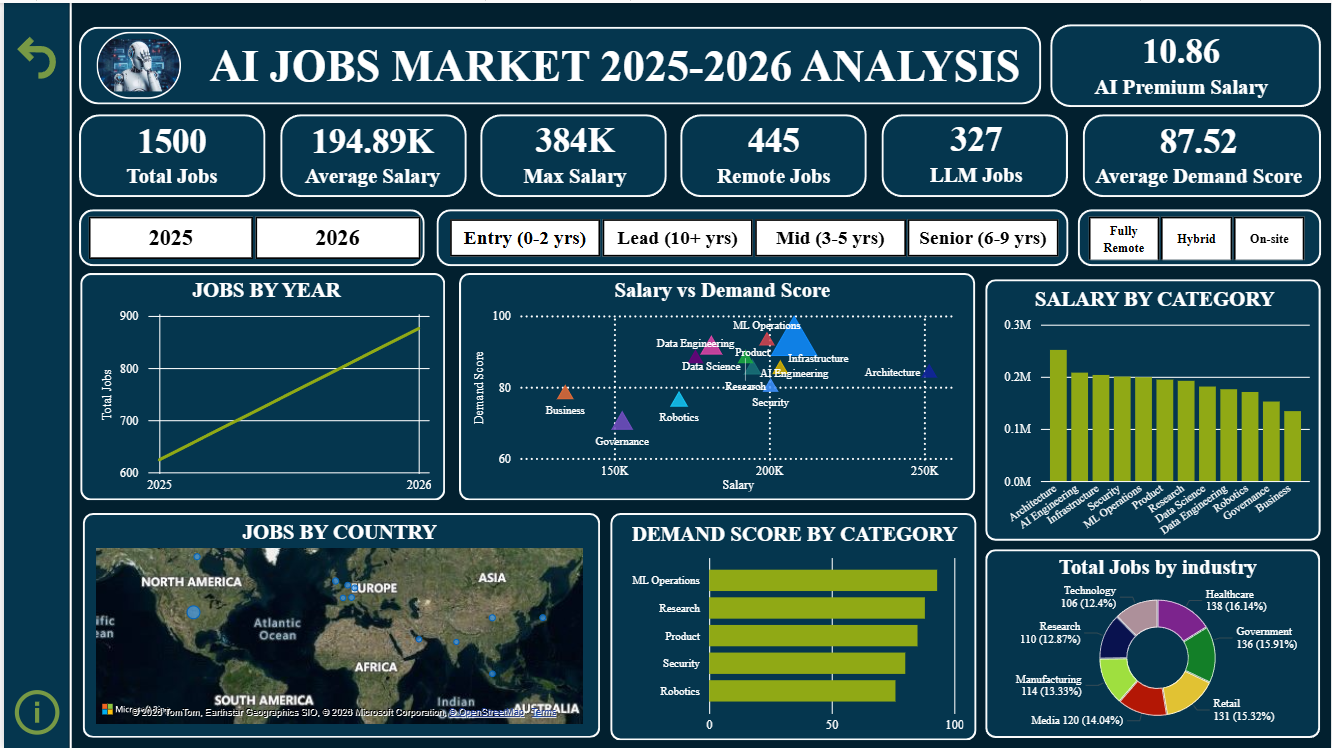

What the dashboard file says about the page in this screenshot:
{"tool":"powerbi","page":{"name":"Page 1","canvas":[1280,720],"ordinal":0},"visuals":[{"type":"shape","box":[72.5,22.5,928.8,75],"z":0},{"type":"textbox","box":[151.2,31.2,867.5,61.2],"z":1000},{"type":"shape","box":[0,0,62.5,720],"z":2000},{"type":"shape","box":[0,0,128.8,720],"z":3000},{"type":"image","box":[88.8,27.5,81.2,65],"z":4000},{"type":"shape","box":[460,107.5,180,80],"z":5000},{"type":"shape","box":[652.5,107.5,180,80],"z":6000},{"type":"shape","box":[266.2,107.5,180,80],"z":7000},{"type":"shape","box":[72.5,107.5,180,80],"z":8000},{"type":"shape","box":[1041.2,107.5,230,80],"z":9000},{"type":"shape","box":[847.5,107.5,180,80],"z":10000},{"type":"card","fields":{"Values":["Measure Table.Total Jobs"]},"box":[76.2,97.5,172.5,90],"z":11000},{"type":"card","fields":{"Values":["Measure Table.Average Salary"]},"box":[272.5,96.2,166.2,92.5],"z":12000},{"type":"card","fields":{"Values":["Measure Table.Max Salary"]},"box":[467.5,97.5,166.2,88.8],"z":13000},{"type":"card","fields":{"Values":["Measure Table.Remote Jobs"]},"box":[660,96.2,166.2,91.2],"z":14000},{"type":"card","fields":{"Values":["Measure Table.LLM Jobs"]},"box":[855,96.2,166.2,90],"z":15000},{"type":"card","fields":{"Values":["Measure Table.Average Demand Score"]},"box":[1035,96.2,236.2,92.5],"z":16000},{"type":"shape","box":[1010,20,261.2,80],"z":17000},{"type":"card","fields":{"Values":["Measure Table.Average AI Premium"]},"box":[1021.2,13.8,231.2,86.2],"z":18000},{"type":"shape","box":[72.5,198.8,333.8,55],"z":19000},{"type":"slicer","fields":{"Values":["Measure Table.Year"]},"box":[55,198.8,370,55],"z":20000},{"type":"shape","box":[417.5,198.8,610,55],"z":21000},{"type":"shape","box":[1036.2,198.8,235,55],"z":22000},{"type":"slicer","fields":{"Values":["Jobs_data.experience_level"]},"box":[403.8,201.2,637.5,50],"z":23000},{"type":"slicer","fields":{"Values":["Jobs_data.remote_work"]},"box":[1021.2,198.8,258.8,48.8],"z":24000},{"type":"shape","box":[73.6,260.6,352.3,219.6],"z":25000},{"type":"shape","box":[947.5,266.2,323.8,252.5],"z":26000},{"type":"shape","box":[947.1,527.2,323.3,182.2],"z":27000},{"type":"shape","box":[585.1,492.2,353.5,219.6],"z":28000},{"type":"shape","box":[76,492.2,499.5,217.2],"z":29000},{"type":"lineChart","title":"JOBS BY YEAR","fields":{"Category":["Jobs_data.posting_year"],"Y":["Measure Table.Total Jobs"]},"box":[89.3,266.6,328.2,213.5],"z":30000},{"type":"clusteredColumnChart","title":"SALARY BY CATEGORY","fields":{"Category":["Jobs_data.job_category"],"Y":["Measure Table.Average Salary"]},"box":[955,275,310,252.5],"z":31000},{"type":"barChart","title":"DEMAND SCORE BY CATEGORY","fields":{"Category":["Jobs_data.job_category"],"Y":["Measure Table.Average Demand Score"]},"box":[594.8,501.9,336.6,209.9],"z":32000},{"type":"map","title":"JOBS BY COUNTRY","fields":{"Category":["Jobs_data.country"],"Size":["Measure Table.Total Jobs"]},"box":[84.5,499.5,479,201.5],"z":33000},{"type":"donutChart","fields":{"Category":["Jobs_data.industry"],"Y":["Measure Table.Total Jobs"]},"box":[947.1,533.2,333,176.1],"z":34000},{"type":"shape","box":[439.1,260.6,498.3,219.6],"z":35000},{"type":"scatterChart","title":"Salary vs Demand Score","fields":{"Series":["Jobs_data.job_category"],"Size":["Measure Table.Total Jobs"],"X":["Measure Table.Average Salary"],"Y":["Measure Table.Average Demand Score"]},"box":[448.8,266.6,488.6,209.9],"z":36000},{"type":"actionButton","box":[7.2,27.7,112.2,49.5],"z":37000},{"type":"actionButton","box":[4.8,657.5,100.1,54.3],"z":38000}]}

Visuals, with their boxes in screenshot pixels (x1, y1, x2, y2), scaled from the page's 1280x720 canvas onto the 1332x748 screenshot:
shape: <region>75, 23, 1042, 101</region>
textbox: <region>157, 32, 1060, 96</region>
shape: <region>0, 0, 65, 747</region>
shape: <region>0, 0, 134, 747</region>
image: <region>92, 29, 177, 96</region>
shape: <region>479, 112, 666, 195</region>
shape: <region>679, 112, 866, 195</region>
shape: <region>277, 112, 464, 195</region>
shape: <region>75, 112, 263, 195</region>
shape: <region>1083, 112, 1323, 195</region>
shape: <region>882, 112, 1069, 195</region>
card - Measure Table.Total Jobs: <region>79, 101, 259, 195</region>
card - Measure Table.Average Salary: <region>284, 100, 457, 196</region>
card - Measure Table.Max Salary: <region>486, 101, 659, 194</region>
card - Measure Table.Remote Jobs: <region>687, 100, 860, 195</region>
card - Measure Table.LLM Jobs: <region>890, 100, 1063, 193</region>
card - Measure Table.Average Demand Score: <region>1077, 100, 1323, 196</region>
shape: <region>1051, 21, 1323, 104</region>
card - Measure Table.Average AI Premium: <region>1063, 14, 1303, 104</region>
shape: <region>75, 207, 423, 264</region>
slicer - Measure Table.Year: <region>57, 207, 442, 264</region>
shape: <region>434, 207, 1069, 264</region>
shape: <region>1078, 207, 1323, 264</region>
slicer - Jobs_data.experience_level: <region>420, 209, 1084, 261</region>
slicer - Jobs_data.remote_work: <region>1063, 207, 1331, 257</region>
shape: <region>77, 271, 443, 499</region>
shape: <region>986, 277, 1323, 539</region>
shape: <region>986, 548, 1322, 737</region>
shape: <region>609, 511, 977, 739</region>
shape: <region>79, 511, 599, 737</region>
"JOBS BY YEAR" lineChart: <region>93, 277, 434, 499</region>
"SALARY BY CATEGORY" clusteredColumnChart: <region>994, 286, 1316, 548</region>
"DEMAND SCORE BY CATEGORY" barChart: <region>619, 521, 969, 739</region>
"JOBS BY COUNTRY" map: <region>88, 519, 586, 728</region>
donutChart - Jobs_data.industry x Measure Table.Total Jobs: <region>986, 554, 1331, 737</region>
shape: <region>457, 271, 975, 499</region>
"Salary vs Demand Score" scatterChart: <region>467, 277, 975, 495</region>
actionButton: <region>7, 29, 124, 80</region>
actionButton: <region>5, 683, 109, 739</region>
